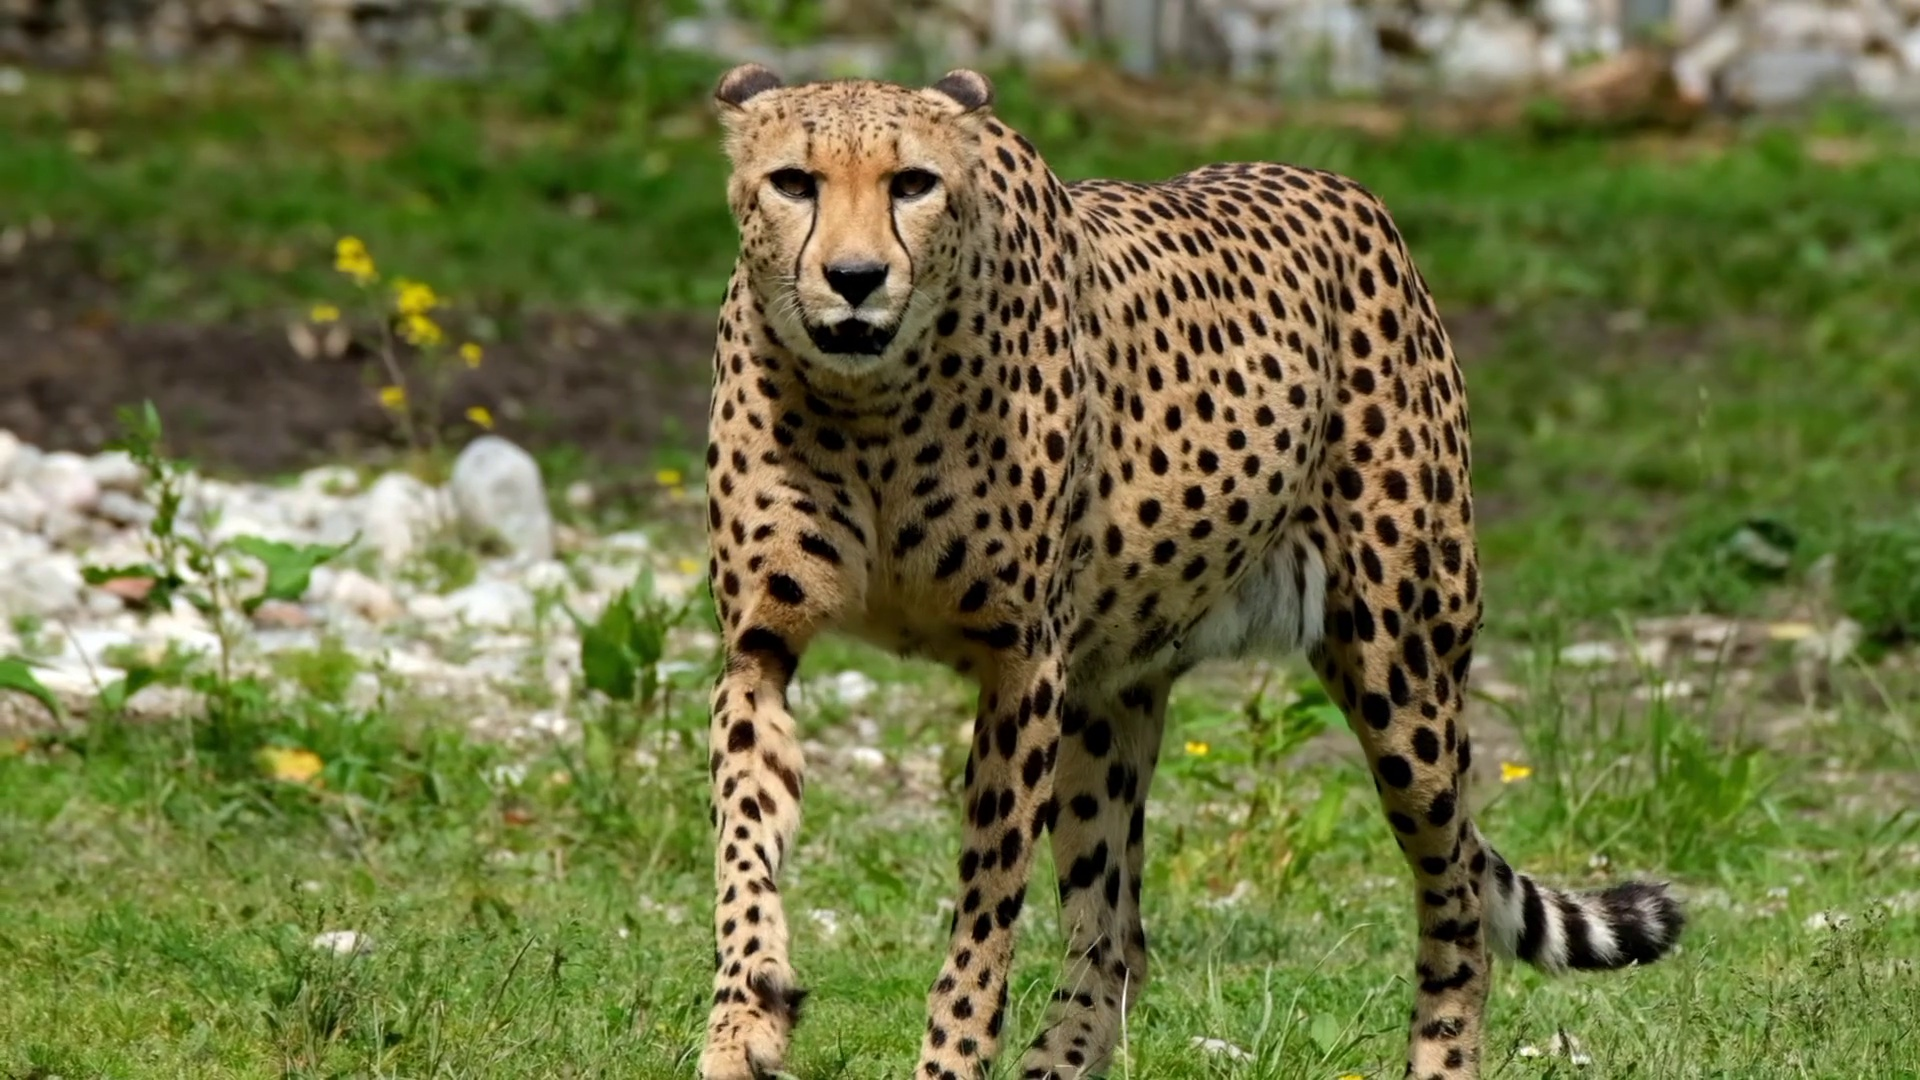Cheetah: (694, 58, 1687, 1080)
